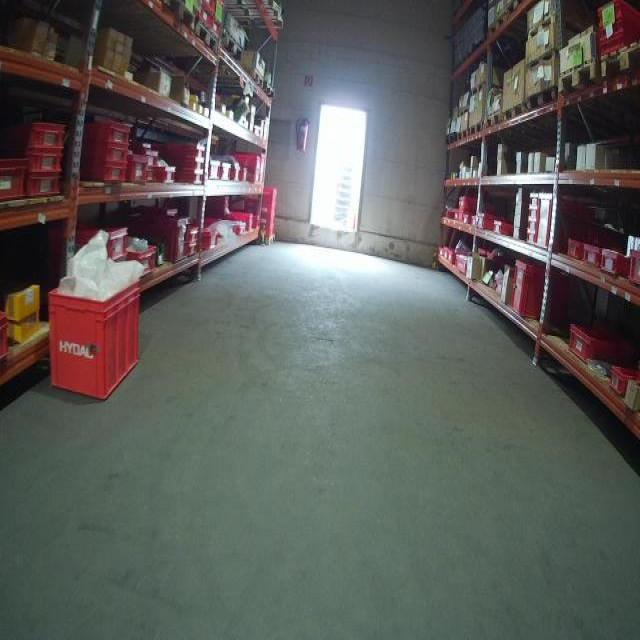pallet: (559, 54, 600, 99), (600, 39, 640, 81), (527, 11, 559, 41), (161, 0, 195, 28), (526, 87, 559, 111), (195, 20, 217, 53), (526, 49, 557, 72), (223, 35, 243, 63), (503, 99, 526, 122), (487, 12, 508, 37), (506, 0, 528, 18), (485, 111, 504, 130), (246, 69, 263, 86), (471, 79, 488, 95), (470, 121, 485, 135), (257, 234, 275, 245), (456, 128, 470, 141)
small_load_carrier: (46, 272, 148, 403), (124, 201, 194, 264), (535, 190, 591, 254), (510, 257, 567, 319), (568, 317, 633, 356), (73, 219, 131, 261), (5, 120, 70, 156), (4, 147, 64, 173), (1, 160, 31, 206), (72, 143, 132, 166), (78, 118, 132, 143), (72, 166, 127, 190), (600, 240, 629, 285), (20, 173, 65, 202), (606, 365, 640, 403), (126, 237, 159, 276), (148, 168, 210, 188), (232, 150, 265, 187), (126, 143, 148, 190), (156, 139, 207, 156), (148, 164, 179, 191), (595, 1, 638, 20), (596, 20, 638, 39), (596, 39, 636, 58), (148, 157, 206, 170), (582, 236, 602, 268), (562, 237, 585, 264), (454, 253, 476, 281), (198, 157, 222, 182), (624, 243, 637, 287), (224, 210, 254, 228), (2, 311, 12, 363), (199, 229, 220, 251), (181, 224, 203, 244), (490, 221, 511, 239), (474, 211, 492, 231), (523, 207, 546, 222), (220, 163, 233, 188), (461, 197, 484, 211), (237, 168, 252, 189), (142, 146, 158, 165), (141, 168, 156, 187), (182, 241, 197, 260), (526, 190, 541, 209), (523, 234, 540, 247), (460, 214, 475, 227), (525, 220, 540, 231), (232, 161, 239, 181)
